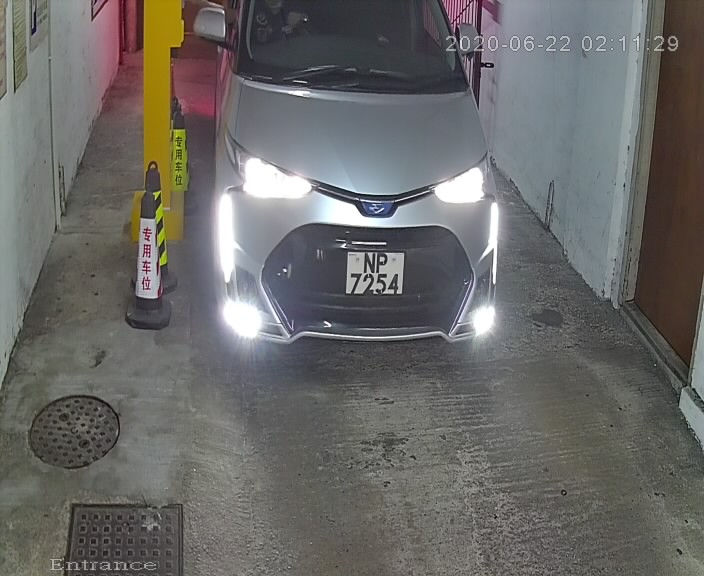privatecar: (187, 1, 523, 376)
